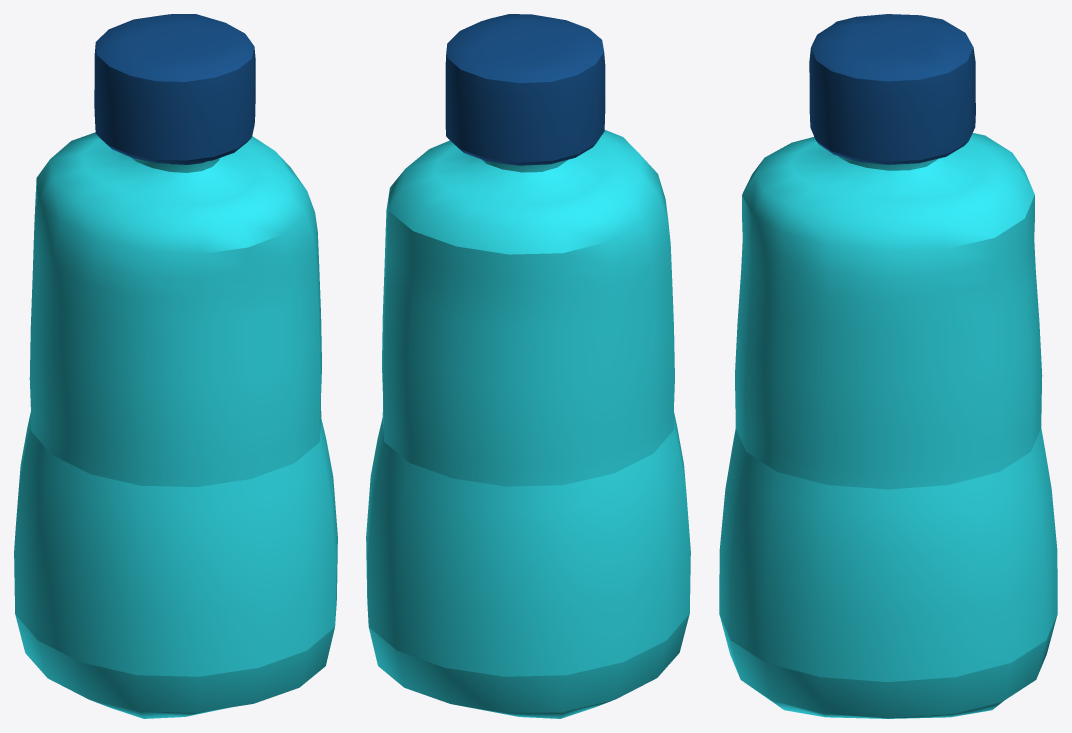
Rendered from Bottle01.fbx.
The picture shows the model from 3 angles, left to right: view 1: azimuth 30°, elevation 25°; view 2: azimuth 150°, elevation 25°; view 3: azimuth 270°, elevation 25°; orthographic projection.
Parts seen in each view (by area): view 1: bottle; view 2: bottle; view 3: bottle.
Boxes of the visible parts, x1,y1,x2,y2 form: bottle: (14, 14, 337, 718); bottle: (366, 14, 690, 718); bottle: (719, 14, 1057, 718).
Bounding box in the file's own units: 14.77 × 14.27 × 30.36.
